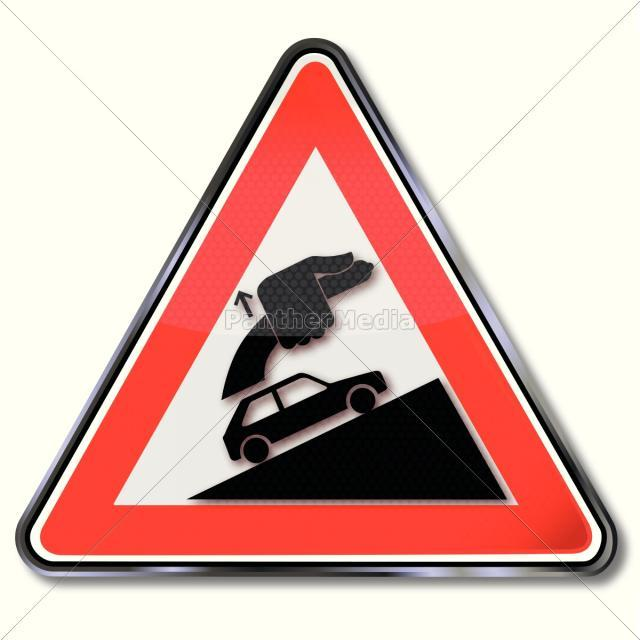steep ascent: (25, 52, 597, 567)
